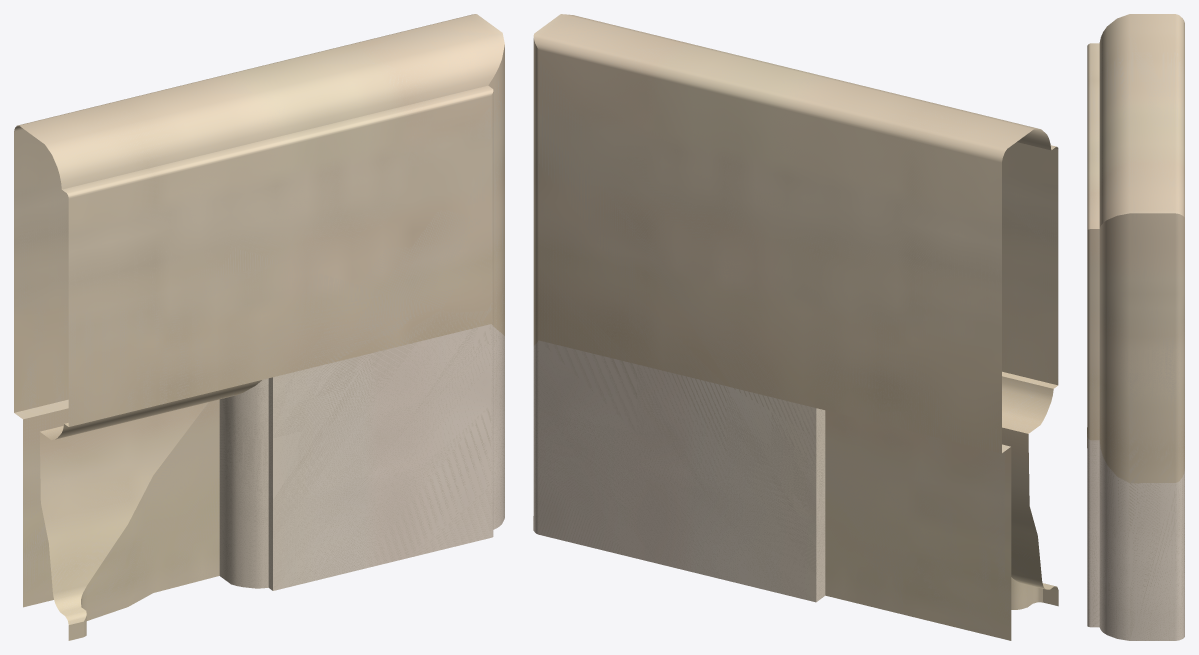
The model's file is original-27.obj.
3 renders of one model, left to right at view 1: azimuth 30°, elevation 25°; view 2: azimuth 150°, elevation 25°; view 3: azimuth 270°, elevation 25°, orthographic. The views are drawn at different scales.
Visible parts, largest first — view 1: RB_31_BR1/RB_31_BR/mesh15/mesh15-geometry#mesh15-geometry; view 2: RB_31_BR1/RB_31_BR/mesh15/mesh15-geometry#mesh15-geometry; view 3: RB_31_BR1/RB_31_BR/mesh15/mesh15-geometry#mesh15-geometry.
Part boxes in pixels (x1,y1,x2,y2): RB_31_BR1/RB_31_BR/mesh15/mesh15-geometry#mesh15-geometry: (14,14,504,640); RB_31_BR1/RB_31_BR/mesh15/mesh15-geometry#mesh15-geometry: (533,14,1058,640); RB_31_BR1/RB_31_BR/mesh15/mesh15-geometry#mesh15-geometry: (1087,14,1184,640).
Size of the model in its own units: 0.1412 by 0.1412 by 0.0292.
